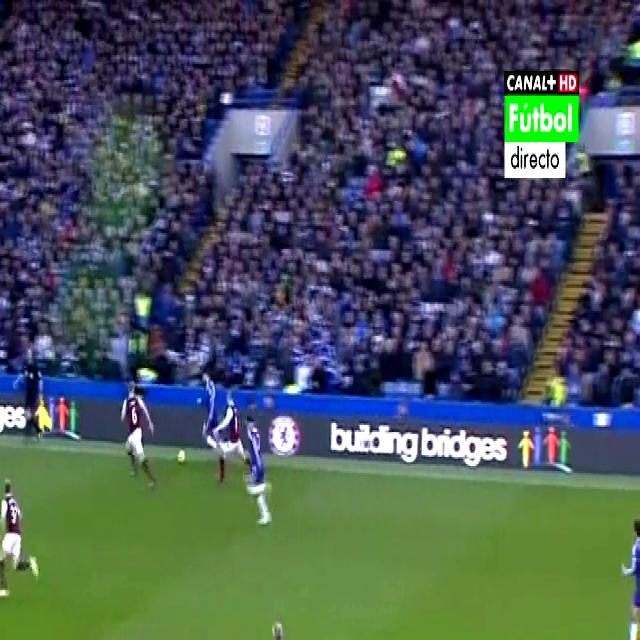ball: (171, 435, 191, 482)
referee: (0, 328, 62, 452), (252, 583, 328, 640)
soccer-player: (0, 453, 48, 619), (110, 371, 168, 508), (236, 409, 276, 541), (210, 377, 247, 502), (190, 344, 223, 462)
